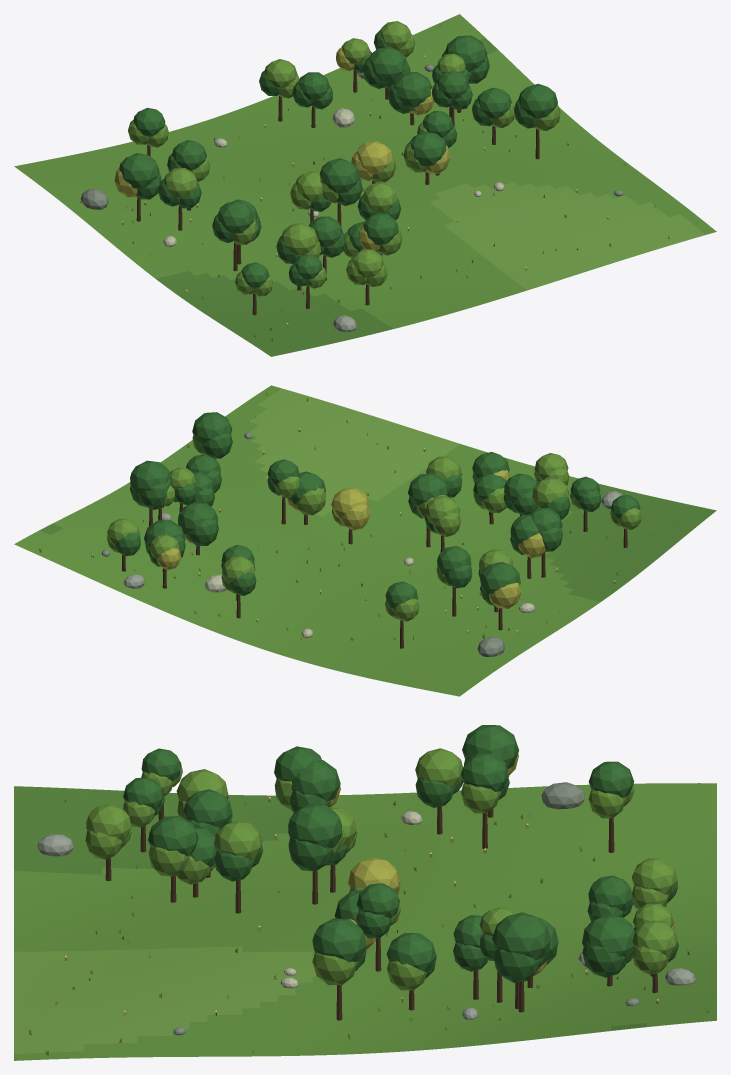
The model's file is Chunk_X1_Y0_Z-3.fbx.
3 renders of one model, top to bottom at view 1: azimuth 30°, elevation 25°; view 2: azimuth 150°, elevation 25°; view 3: azimuth 270°, elevation 25°, orthographic. The views are drawn at different scales.
Parts seen in each view (by area): view 1: Terrain.028, Canopies.027, Trunks.027, Rocks.028, GroundCover.028; view 2: Terrain.028, Canopies.027, Rocks.028, Trunks.027, GroundCover.028; view 3: Terrain.028, Canopies.027, Trunks.027, Rocks.028, GroundCover.028.
Part boxes in pixels (x1=…): Terrain.028: x1=14, y1=14, x2=716, y2=356; Canopies.027: x1=114, y1=21, x2=560, y2=296; Trunks.027: x1=136, y1=69, x2=539, y2=315; Rocks.028: x1=80, y1=64, x2=623, y2=331; GroundCover.028: x1=80, y1=23, x2=697, y2=340; Terrain.028: x1=14, y1=385, x2=716, y2=696; Canopies.027: x1=107, y1=412, x2=641, y2=621; Rocks.028: x1=101, y1=432, x2=622, y2=656; Trunks.027: x1=121, y1=496, x2=627, y2=648; GroundCover.028: x1=39, y1=392, x2=679, y2=656; Terrain.028: x1=14, y1=783, x2=716, y2=1060; Canopies.027: x1=85, y1=725, x2=678, y2=990; Trunks.027: x1=105, y1=805, x2=657, y2=1020; Rocks.028: x1=37, y1=782, x2=695, y2=1035; GroundCover.028: x1=29, y1=792, x2=708, y2=1055.
Size of the model in its own units: 100 by 21.41 by 100.
